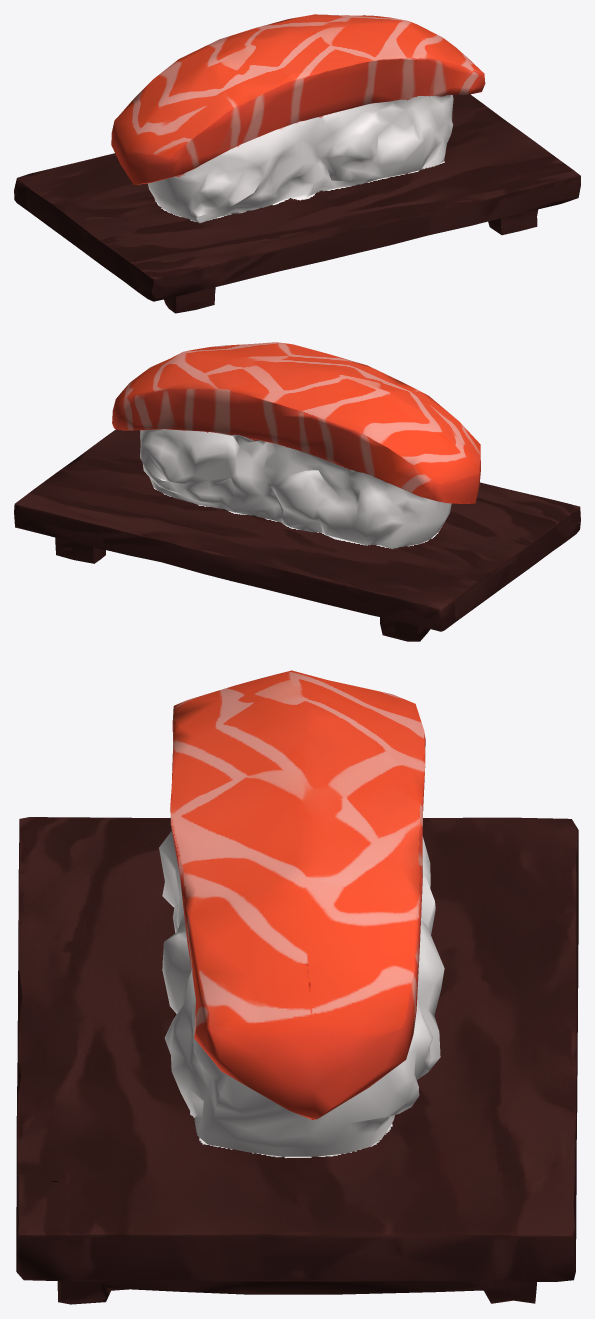
Rendered from nigiri_salmon.glb.
3 renders of one model, top to bottom at view 1: azimuth 30°, elevation 25°; view 2: azimuth 150°, elevation 25°; view 3: azimuth 270°, elevation 25°, orthographic. The views are drawn at different scales.
Parts seen in each view (by area): view 1: world; view 2: world; view 3: world.
Boxes of the visible parts, x1,y1,x2,y2 form: world: (14,14,580,313); world: (14,342,580,641); world: (16,670,578,1304).
Bounding box in the file's own units: 1 × 0.4325 × 0.5702.
1 material, 1 textured.
